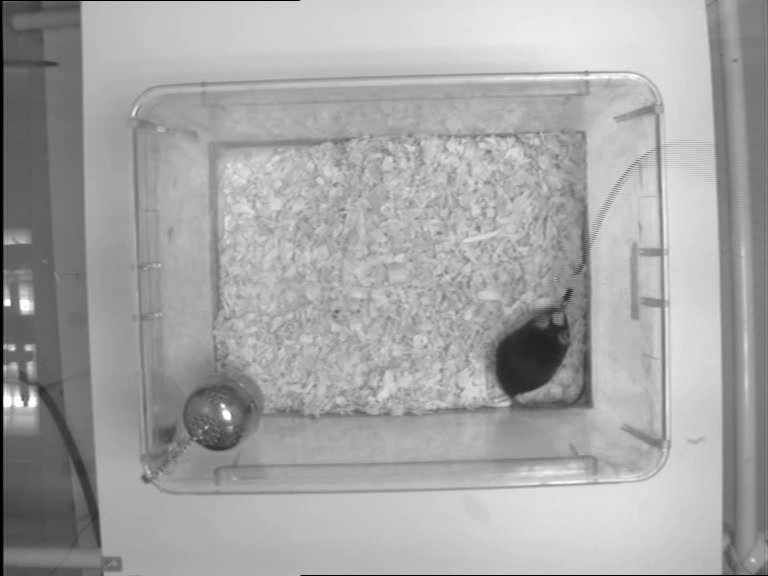mice: (495, 304, 589, 409)
